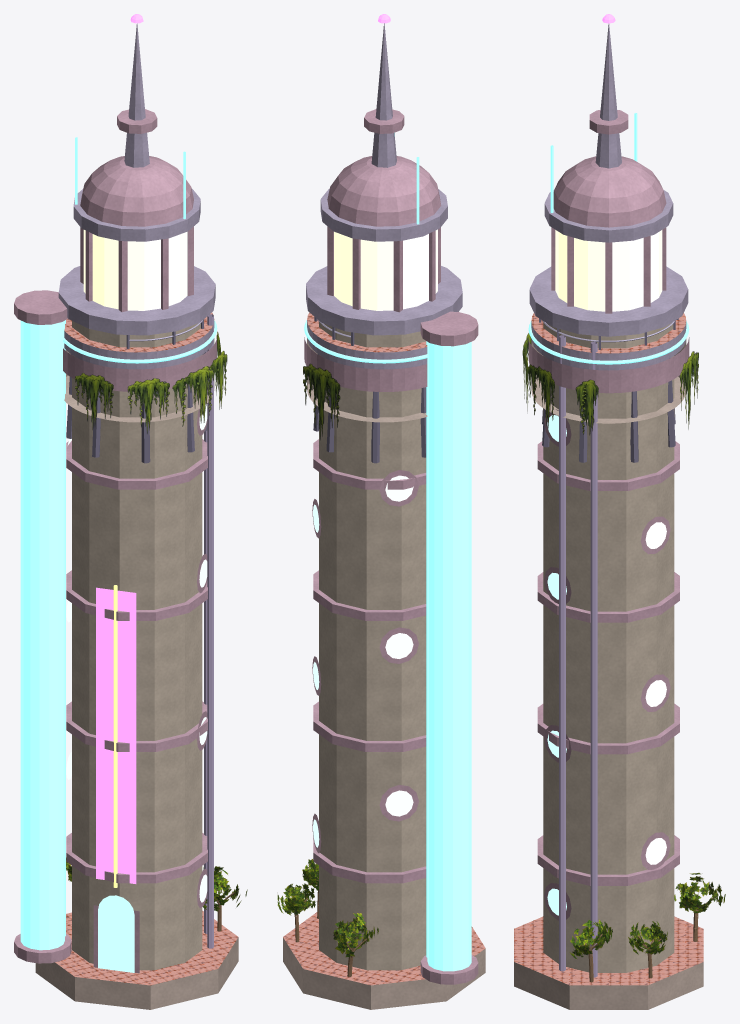
Rendered from TOWER_H.glb.
The picture shows the model from 3 angles, left to right: view 1: azimuth 30°, elevation 25°; view 2: azimuth 150°, elevation 25°; view 3: azimuth 270°, elevation 25°; orthographic projection.
Visible parts, largest first — view 1: BT_TOWER_H_Body, BT_TOWER_H_Moss37, BT_TOWER_H_Trees; view 2: BT_TOWER_H_Body, BT_TOWER_H_Trees, BT_TOWER_H_Moss37; view 3: BT_TOWER_H_Body, BT_TOWER_H_Trees, BT_TOWER_H_Moss37.
Part boxes in pixels (bbox=[...]): BT_TOWER_H_Body: bbox=[14, 14, 238, 1009]; BT_TOWER_H_Moss37: bbox=[75, 331, 227, 433]; BT_TOWER_H_Trees: bbox=[66, 857, 247, 931]; BT_TOWER_H_Body: bbox=[283, 14, 485, 1009]; BT_TOWER_H_Trees: bbox=[277, 859, 378, 976]; BT_TOWER_H_Moss37: bbox=[303, 363, 340, 440]; BT_TOWER_H_Body: bbox=[514, 14, 703, 1009]; BT_TOWER_H_Trees: bbox=[569, 872, 725, 982]; BT_TOWER_H_Moss37: bbox=[522, 333, 698, 435].
Size of the model in its own units: 12.02 by 54.45 by 10.94.
15 materials, 6 textured.
